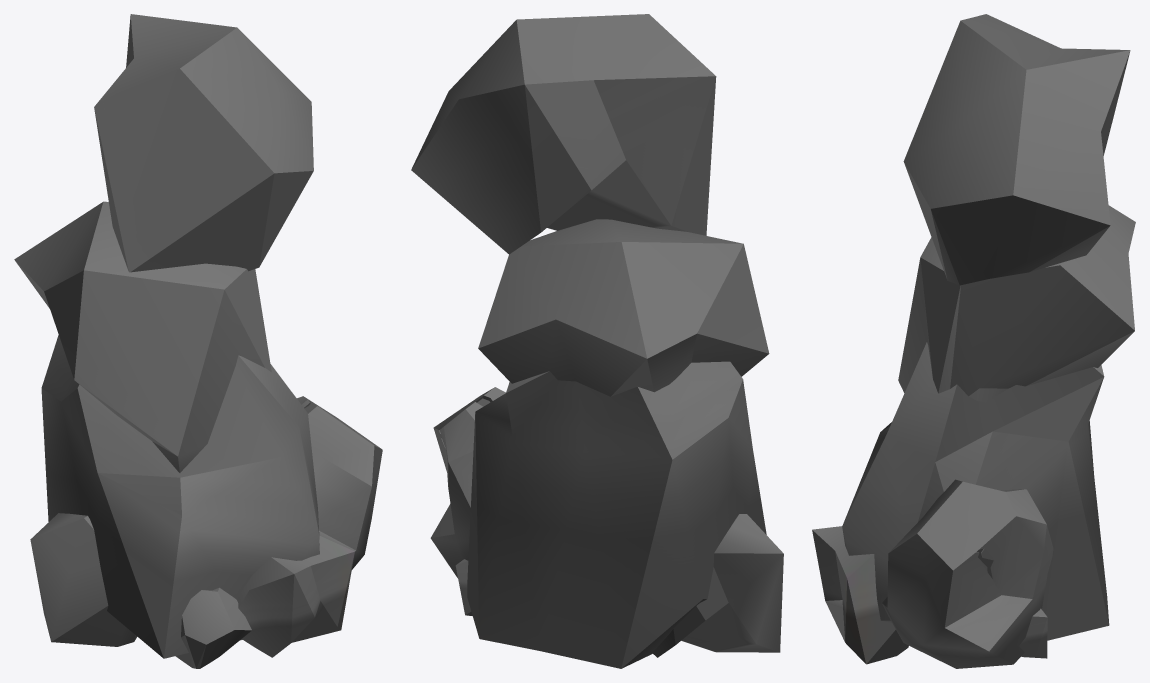
Rendered from RochasConj3.glb.
3 renders of one model, left to right at view 1: azimuth 30°, elevation 25°; view 2: azimuth 150°, elevation 25°; view 3: azimuth 270°, elevation 25°, orthographic. The views are drawn at different scales.
Visible parts, largest first — view 1: RochasConj3; view 2: RochasConj3; view 3: RochasConj3.
Boxes of the visible parts, <box> form: RochasConj3: <box>14,14,382,668</box>; RochasConj3: <box>411,14,783,668</box>; RochasConj3: <box>812,14,1135,668</box>.
Size of the model in its own units: 2.61 by 4.26 by 2.08.
1 material, 1 textured.
